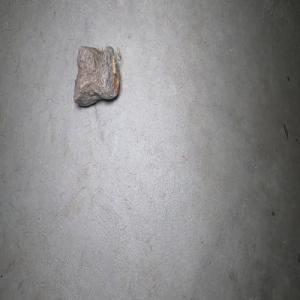Rock: (73, 45, 120, 106)
